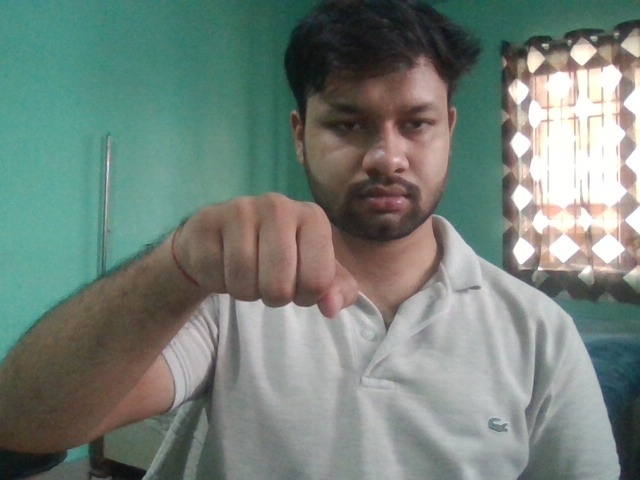Yes: (178, 189, 361, 323)
